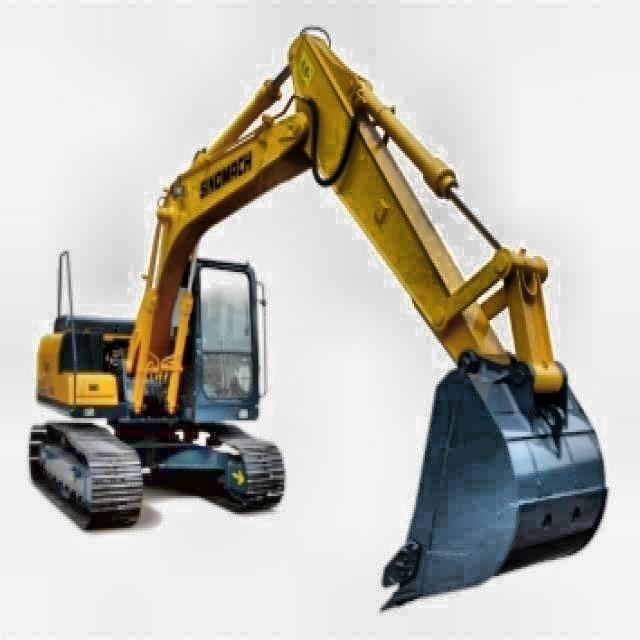excavator: (25, 21, 611, 614)
